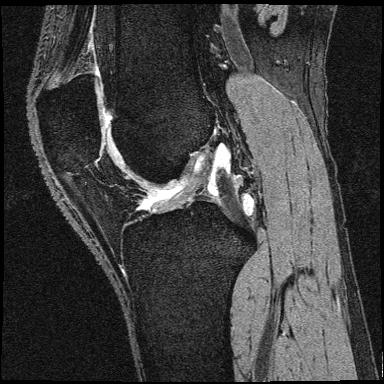SagKneeJointArea: (35, 72, 259, 283)
